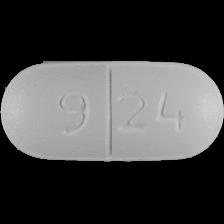55289-601: (0, 0, 224, 224)
